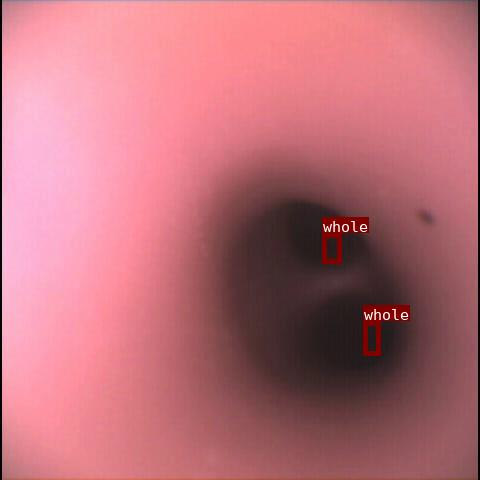whole: (363, 321, 380, 355), (322, 233, 341, 263)
